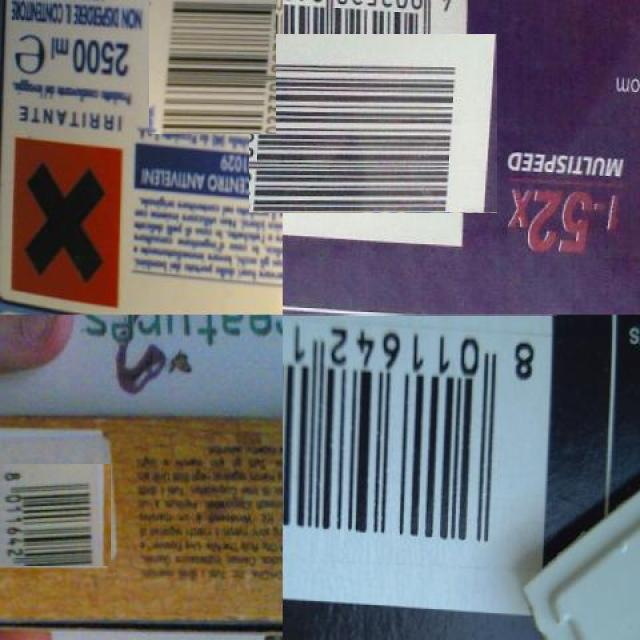Barcode: (283, 314, 557, 618), (266, 17, 480, 231), (146, 0, 280, 131), (0, 461, 107, 571)
